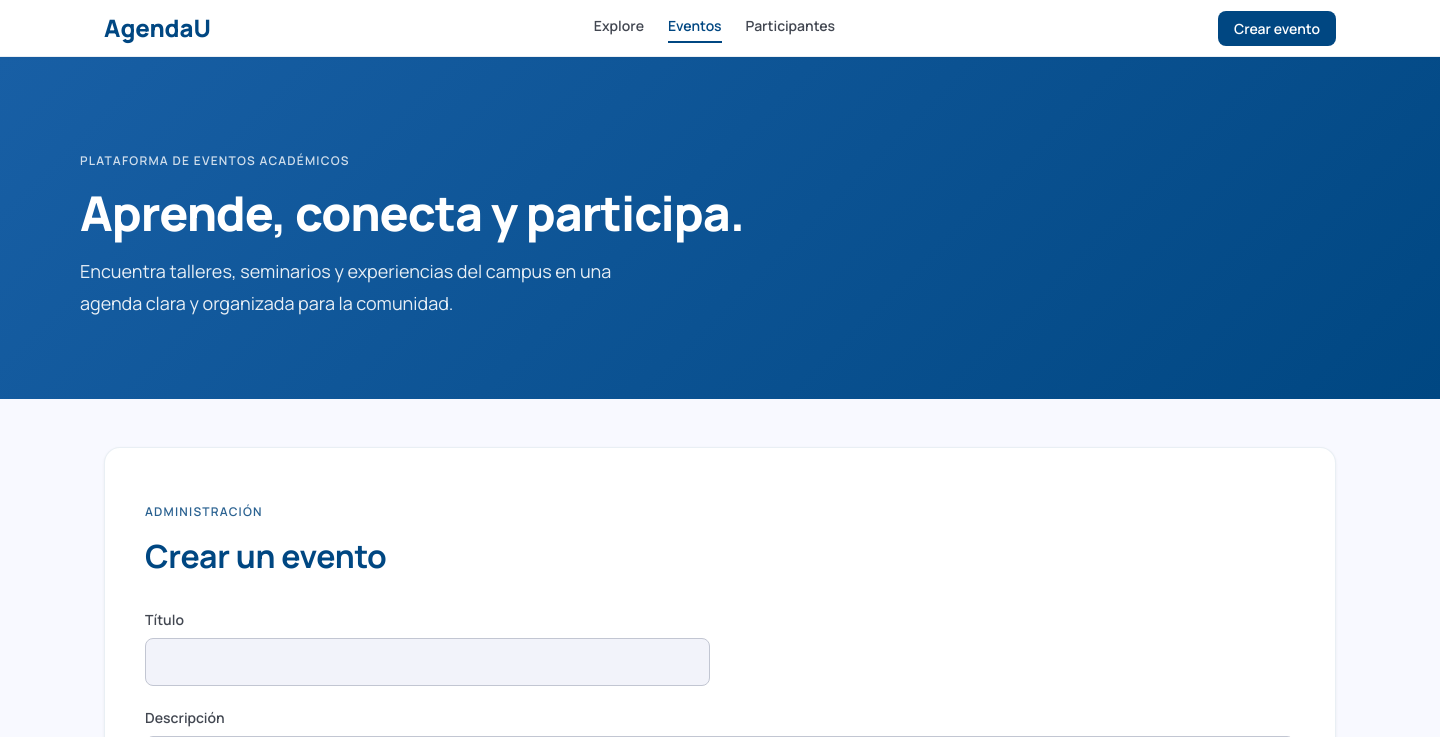
Test: App › shows an API mutation failure without changing the list
The image size is (1440, 737).
Type "Accessibility Workshop" into the field labelled "Título" at (428, 662), box [145,638,710,686]
(page scrolled)
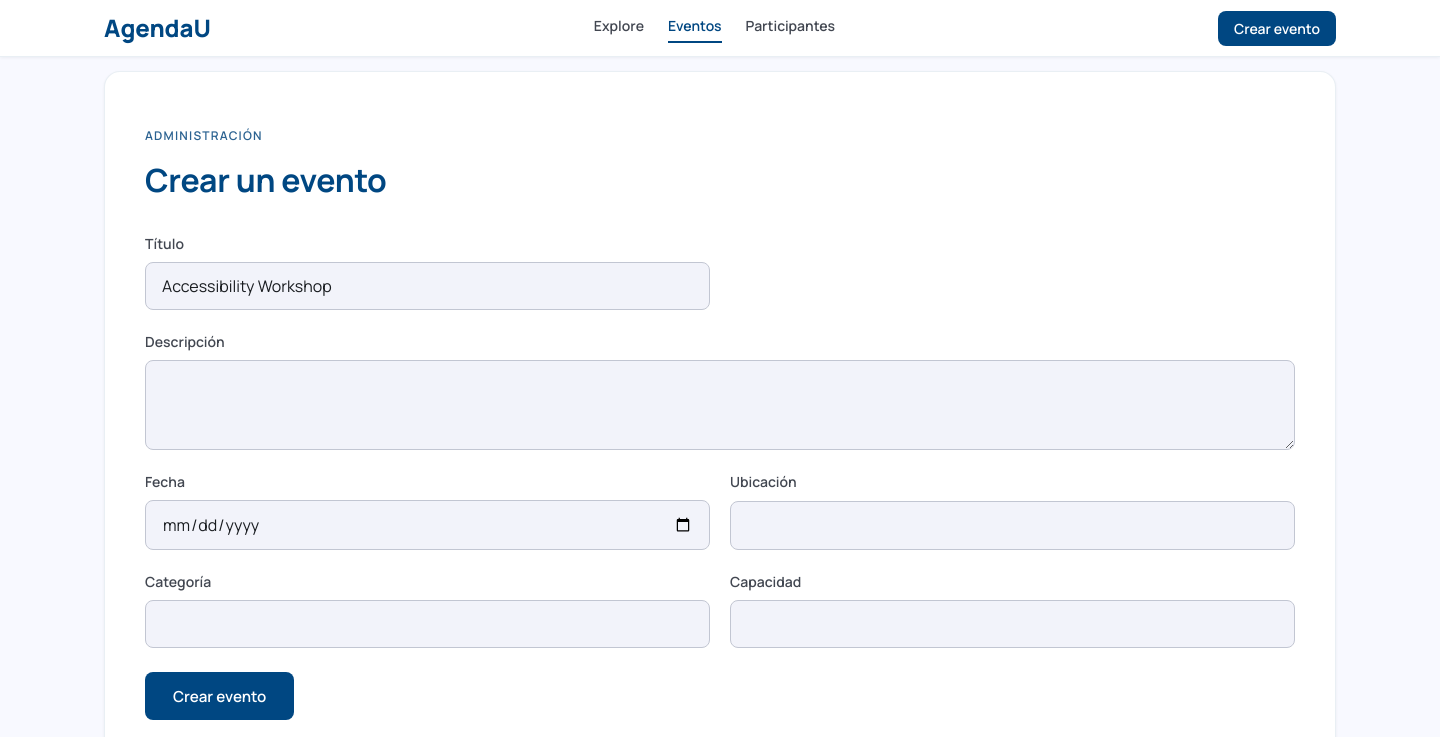
Type "Build inclusive apps" into the text box labelled "Descripción" at (720, 405), box [145,360,1295,450]
Type "2026-08-14" into the date field labelled "Fecha" at (428, 525), box [145,500,710,550]
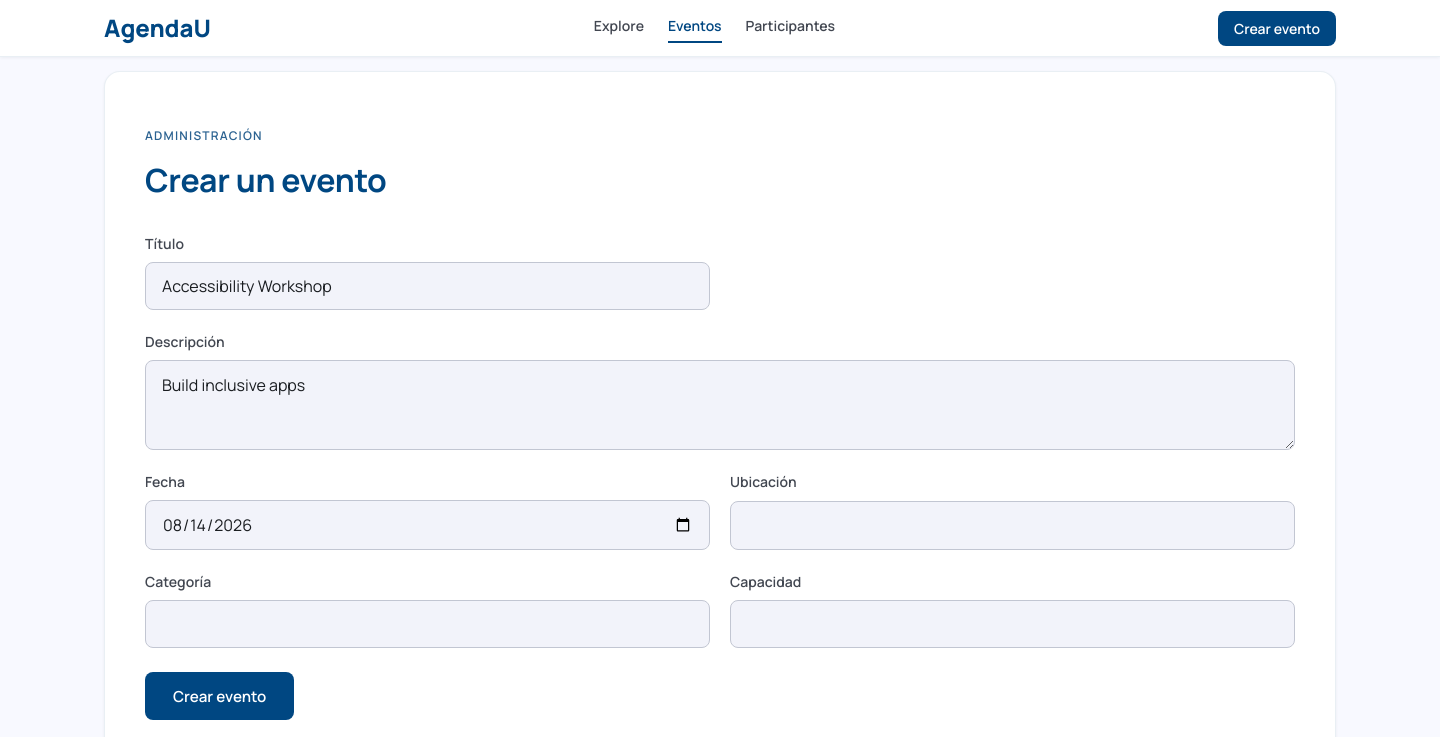
Type "Lab 2" into the field labelled "Ubicación" at (1012, 526), box [730,501,1295,550]
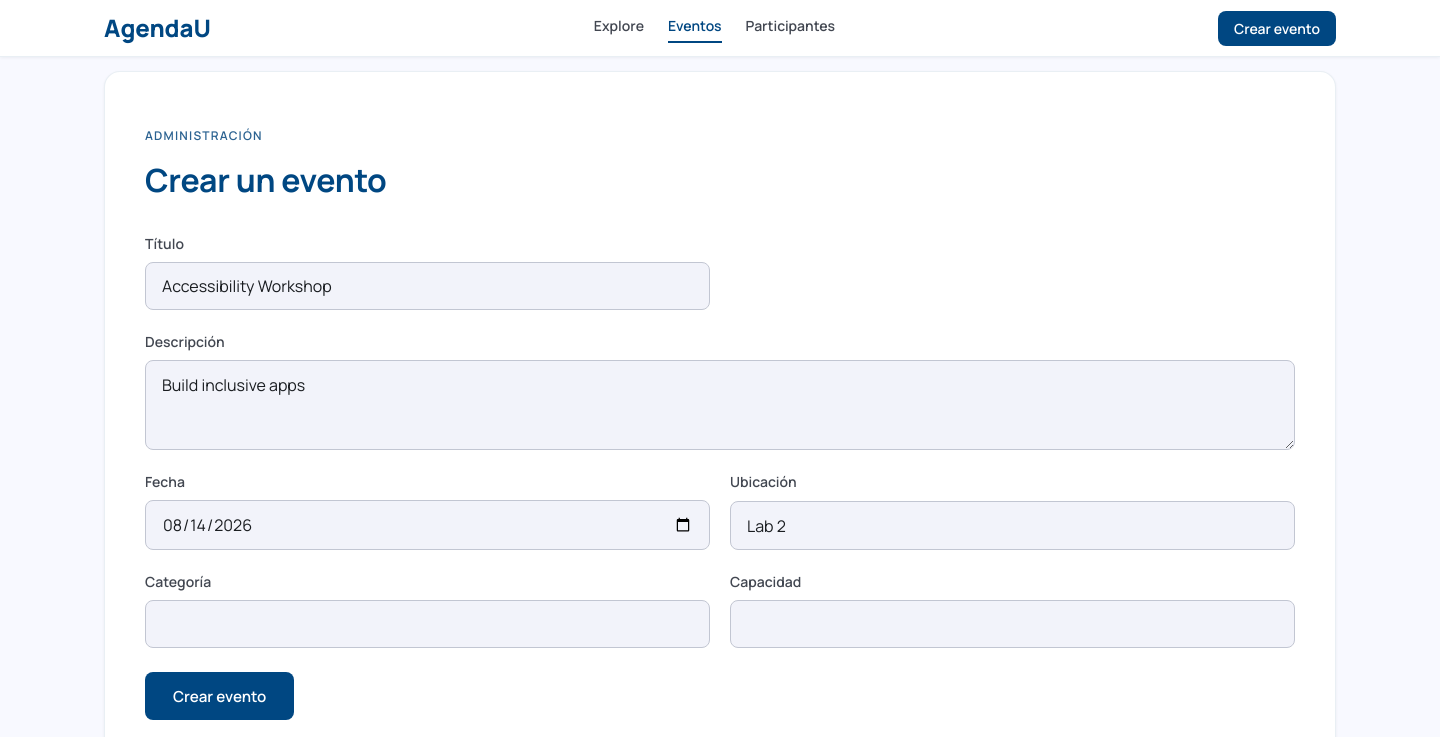
Type "Workshop" into the field labelled "Categoría" at (428, 624), box [145,600,710,648]
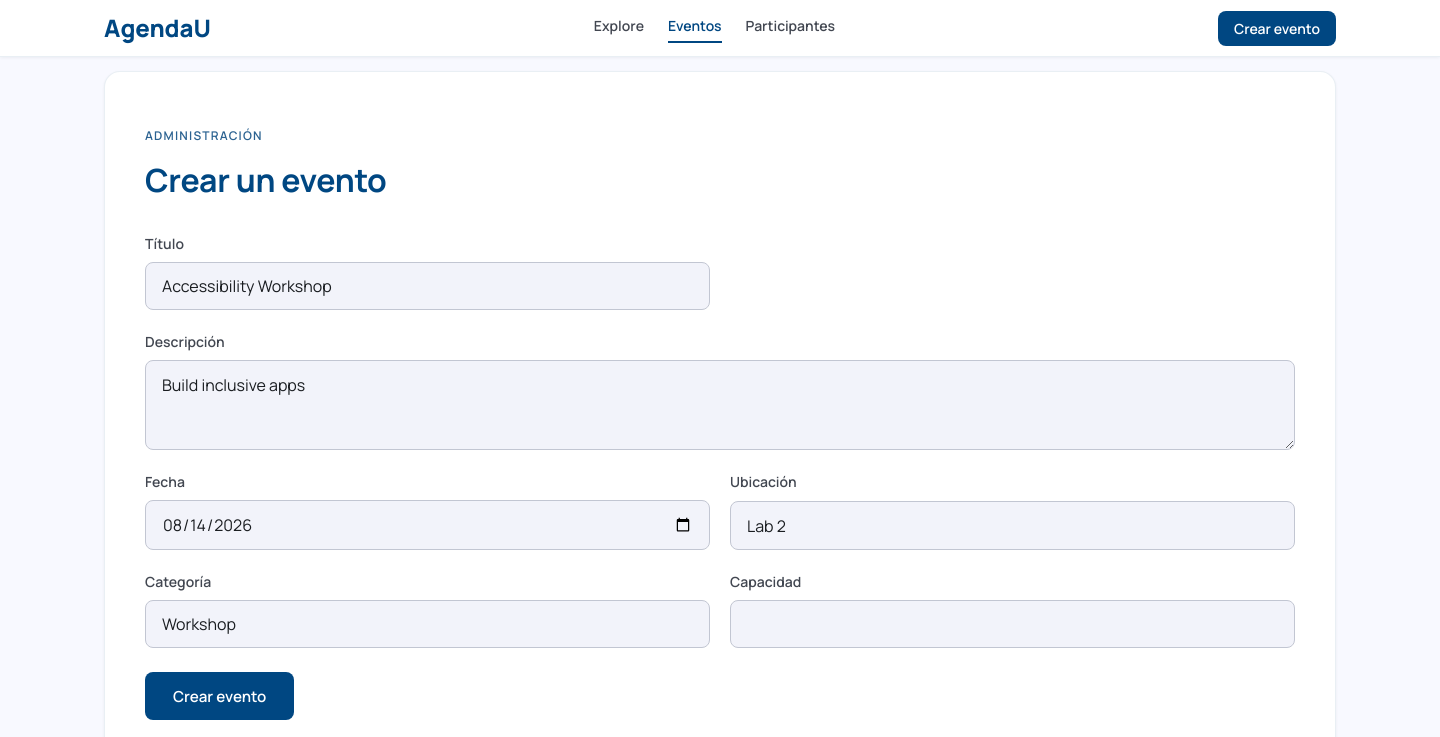
Type "30" into the number field labelled "Capacidad" at (1012, 624), box [730,600,1295,648]
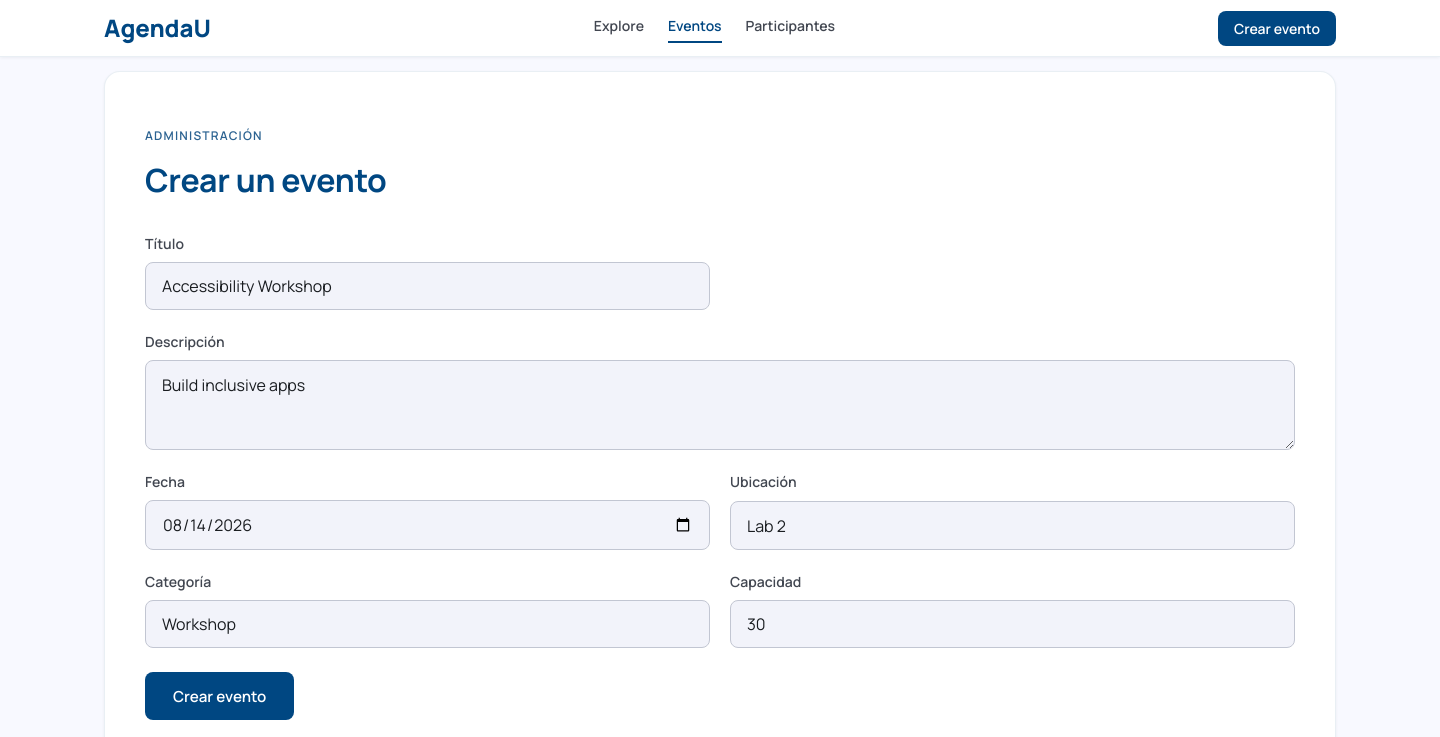
Click the button "Crear evento" below "Categoría" at (220, 696), box [145,672,294,720]
(page scrolled)
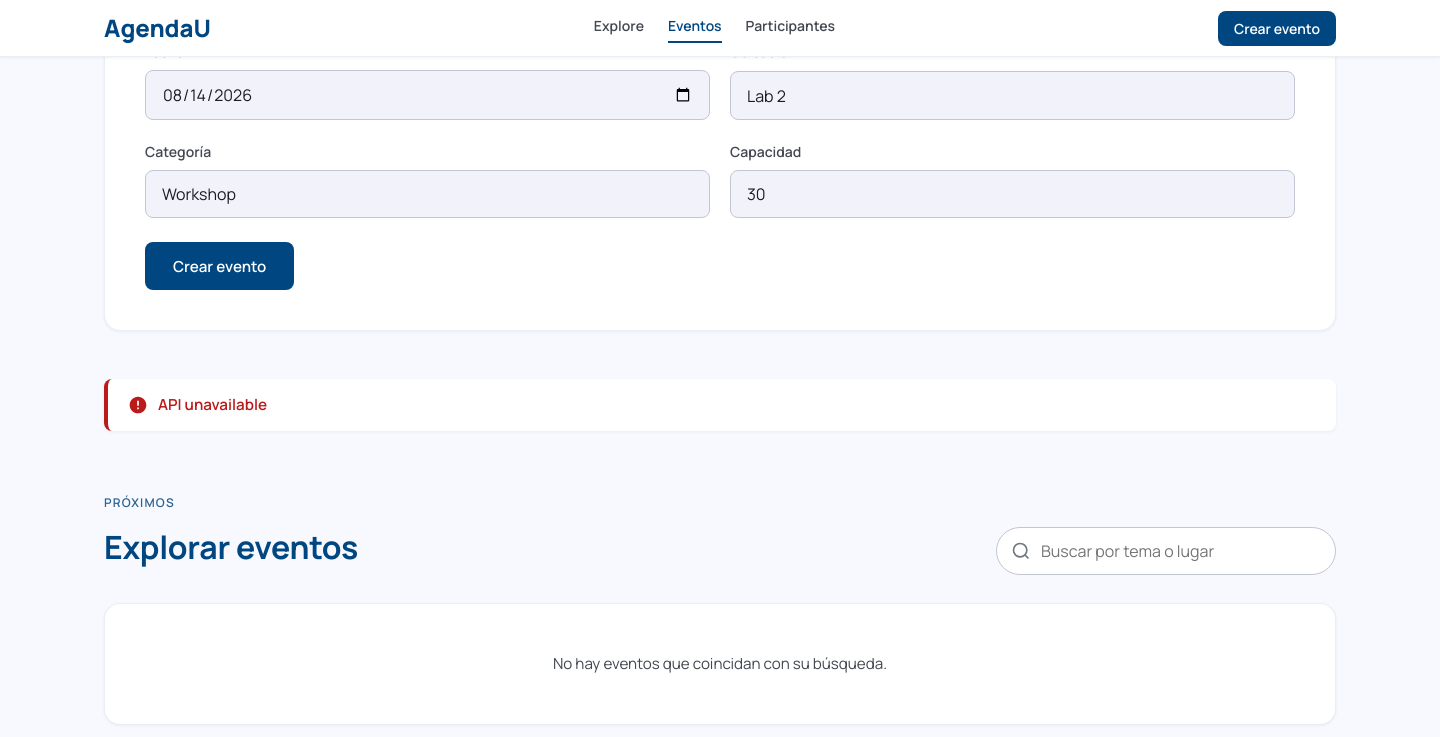
Expected: the heading "Accessibility Workshop" is not shown
Result: the message reads "API unavailable" at [158,394,267,415]
